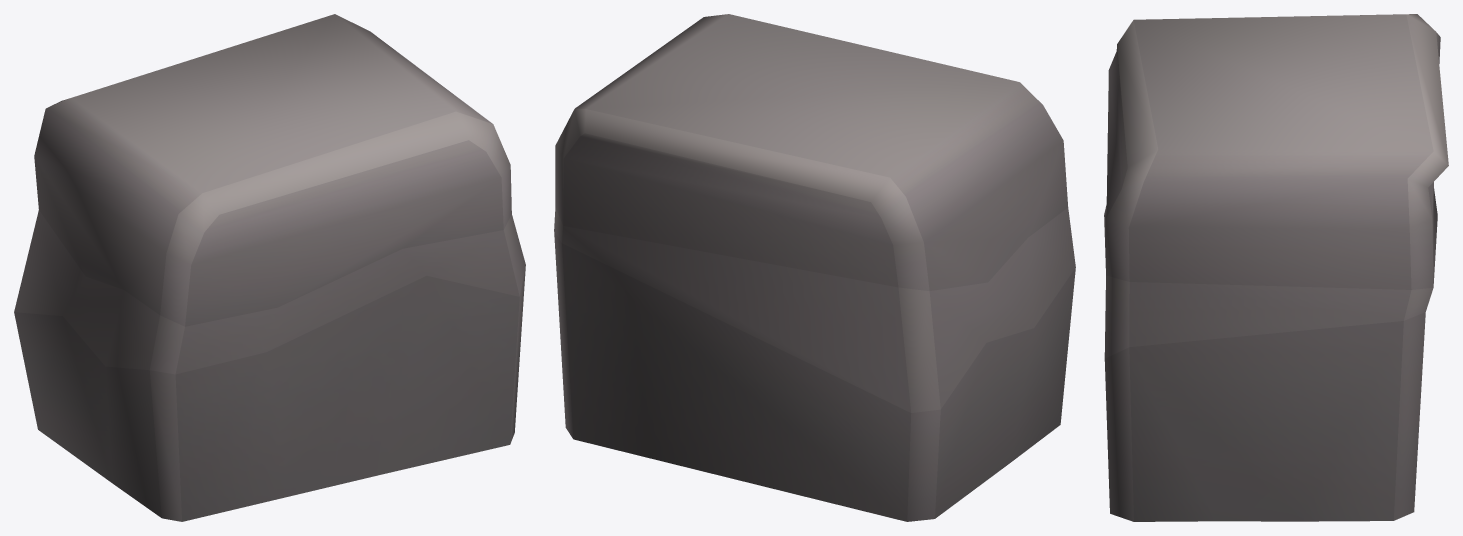
File: elf_stone_big.fbx
The picture shows the model from 3 angles, left to right: view 1: azimuth 30°, elevation 25°; view 2: azimuth 150°, elevation 25°; view 3: azimuth 270°, elevation 25°; orthographic projection. The views are drawn at different scales.
Parts seen in each view (by area): view 1: elf_stone_big; view 2: elf_stone_big; view 3: elf_stone_big.
Part boxes in pixels (left/top/right/bottom): elf_stone_big: left=14, top=14, right=525, bottom=521; elf_stone_big: left=554, top=14, right=1075, bottom=521; elf_stone_big: left=1104, top=14, right=1448, bottom=521.
Size of the model in its own units: 278 by 229 by 205.
